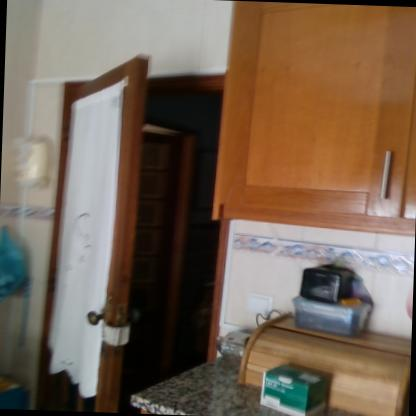semi: (40, 60, 244, 416)
